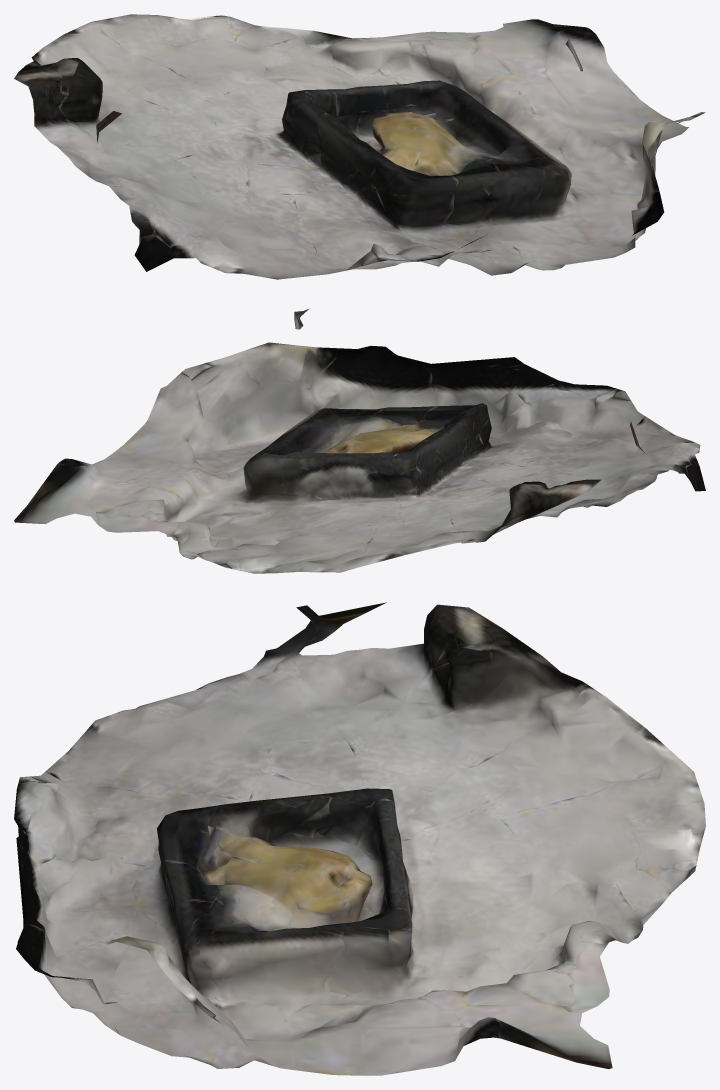
File: hall.glb
3 renders of one model, top to bottom at view 1: azimuth 30°, elevation 25°; view 2: azimuth 150°, elevation 25°; view 3: azimuth 270°, elevation 25°, orthographic. The views are drawn at different scales.
Size of the model in its own units: 1.97 by 0.564 by 1.81.
Materials: 1 (1 with a texture image).
